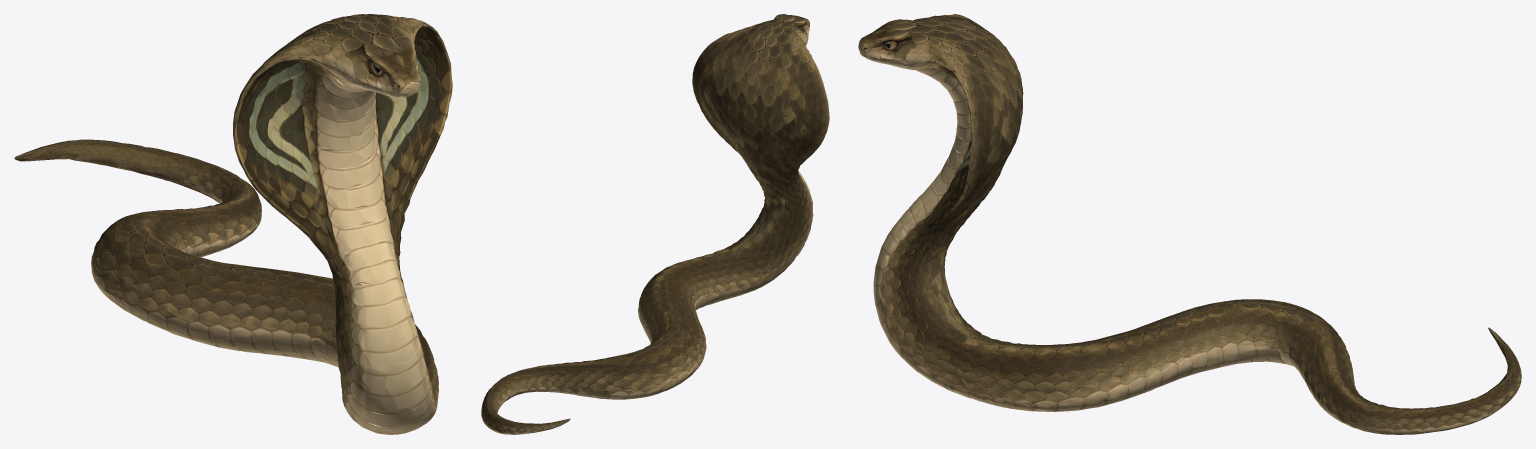
The model's file is cobra.glb.
3 renders of one model, left to right at view 1: azimuth 30°, elevation 25°; view 2: azimuth 150°, elevation 25°; view 3: azimuth 270°, elevation 25°, orthographic. The views are drawn at different scales.
Size of the model in its own units: 0.7423 by 1.11 by 1.9.
Materials: 1 (1 with a texture image).
